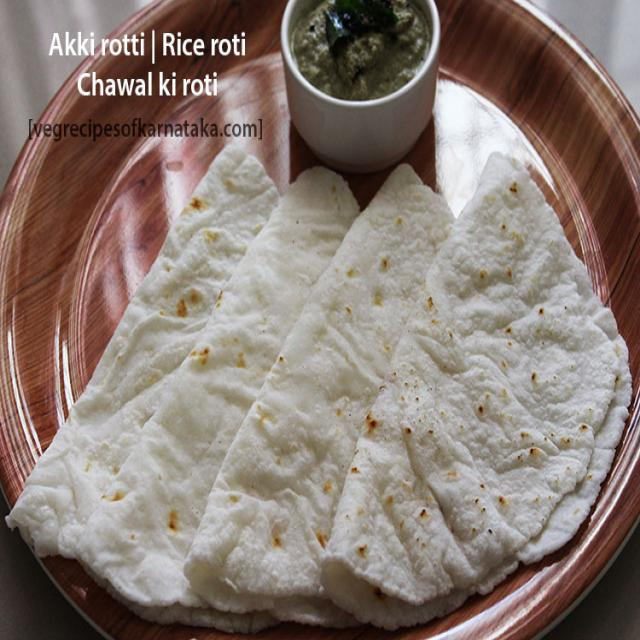RICE BHAKRI: (12, 150, 358, 619), (321, 156, 631, 627), (186, 166, 451, 619)
ROTI: (321, 156, 629, 628)
